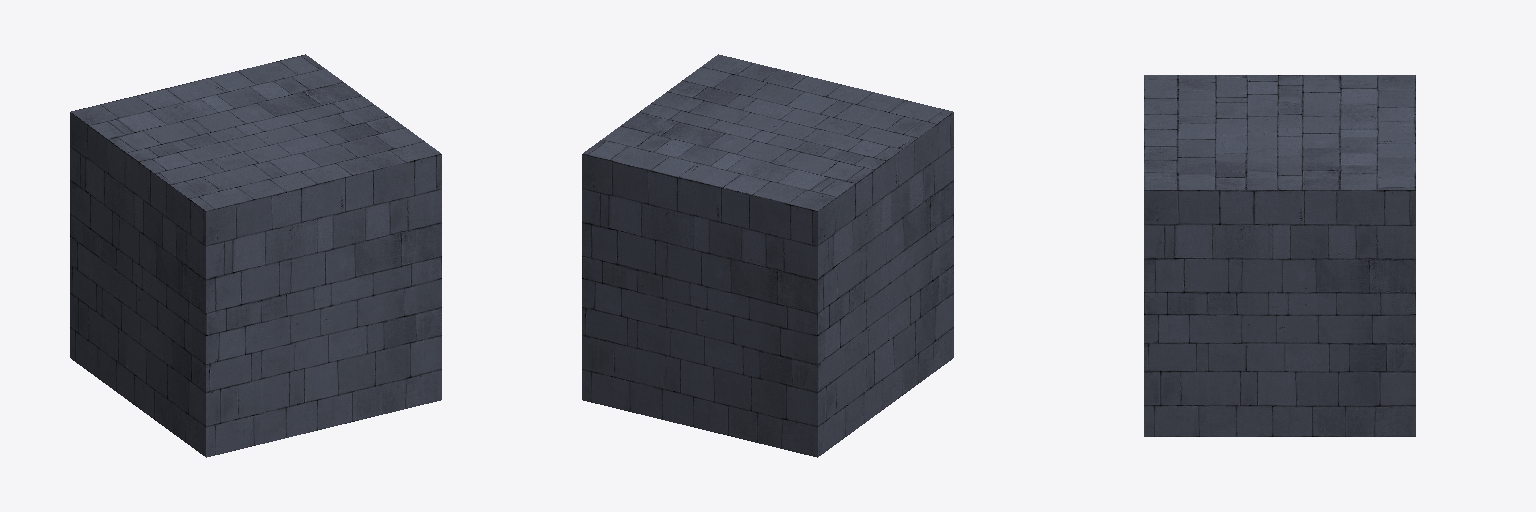
3 views of the same model, side by side, from view 1: azimuth 30°, elevation 25°; view 2: azimuth 150°, elevation 25°; view 3: azimuth 270°, elevation 25° (orthographic).
Parts seen in each view (by area): view 1: Box001; view 2: Box001; view 3: Box001.
Boxes of the visible parts, x1=… form: Box001: x1=70, y1=54, x2=441, y2=457; Box001: x1=582, y1=54, x2=953, y2=457; Box001: x1=1144, y1=75, x2=1415, y2=436.
Bounding box in the file's own units: 3.94 × 3.94 × 3.94.
1 materials, 1 textured.